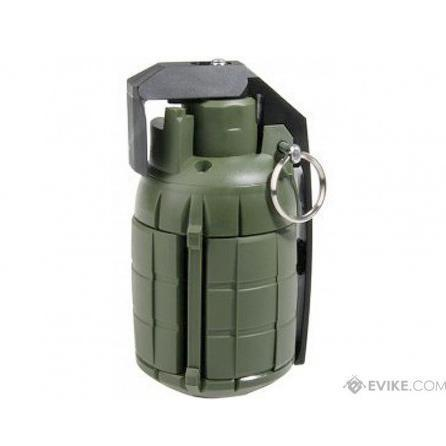Grenade: (126, 59, 325, 395)
